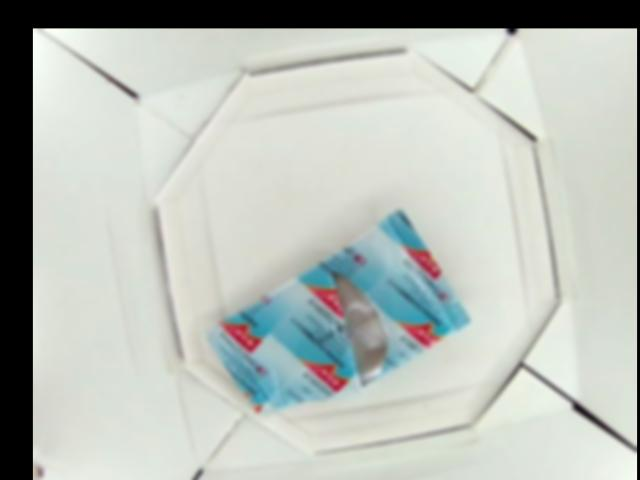Medicine: (213, 207, 472, 413)
